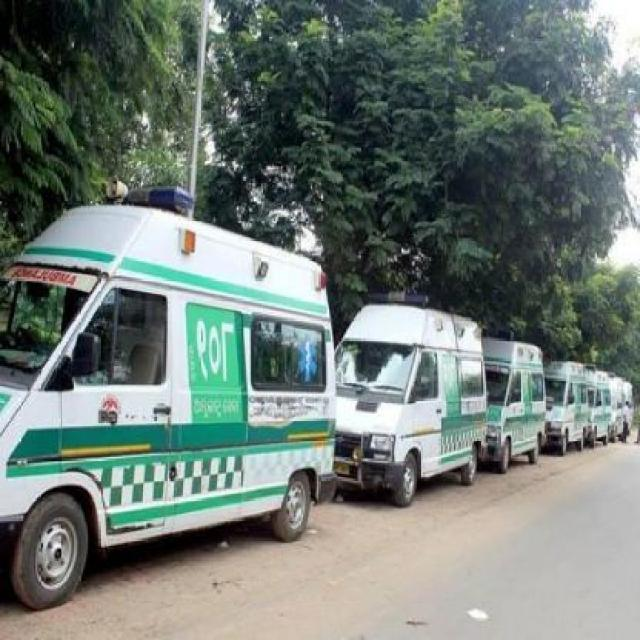Ambulance: (0, 177, 638, 617), (0, 415, 638, 638), (329, 294, 491, 510), (474, 334, 550, 476)
